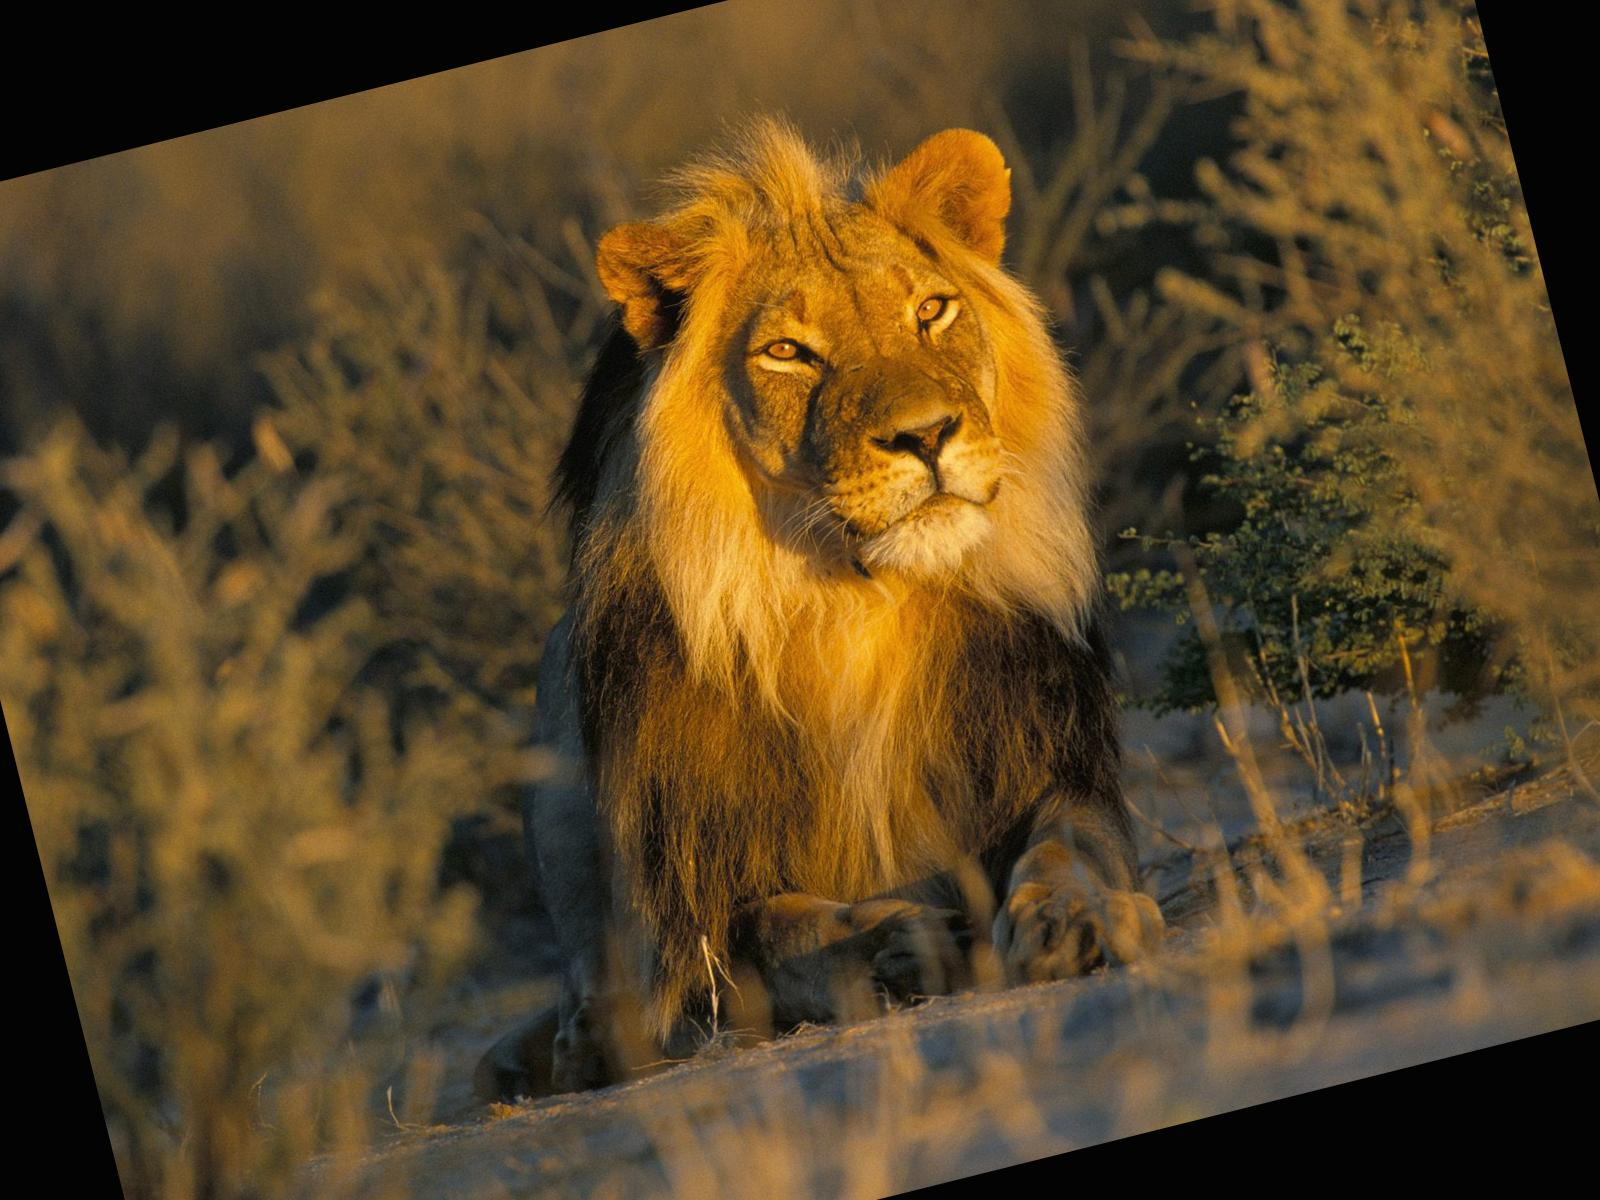lions: (256, 0, 1417, 1200)
